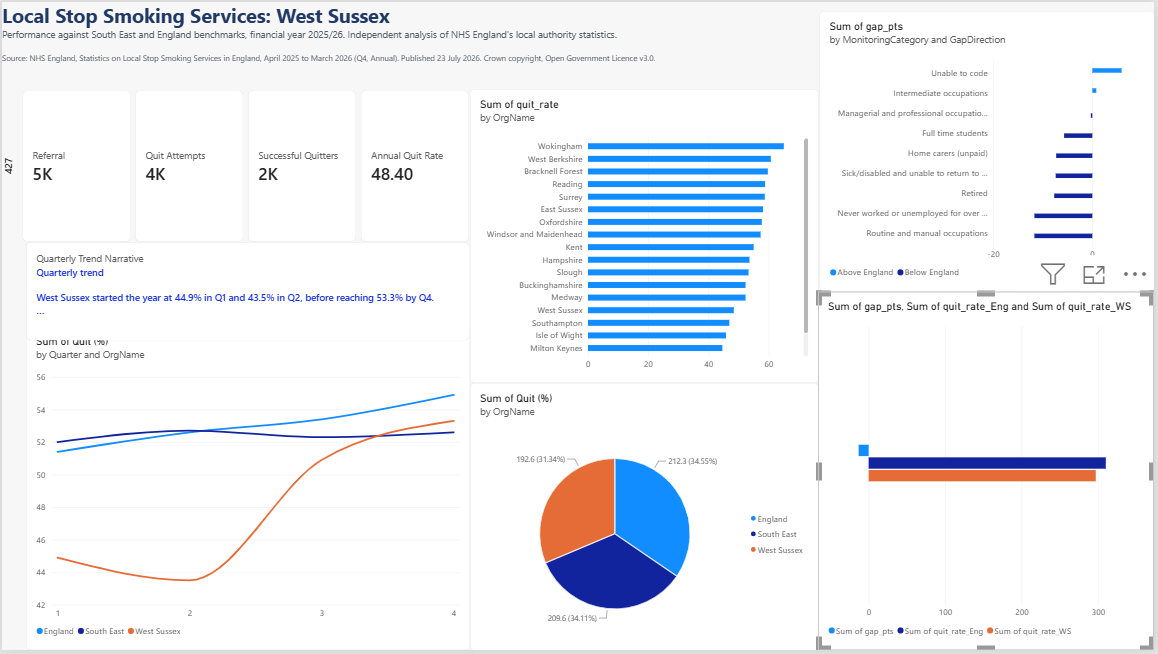

Layout of this report page (visuals, bound fields, positions):
{"tool":"powerbi","page":{"name":"Page 1","canvas":[1920,1080],"ordinal":0},"visuals":[{"type":"cardVisual","fields":{"Data":["Sum(west_sussex_vs_england_quarterly.Total referred)","Sum(local_authority_quit_rates.quit_dates)","Sum(local_authority_quit_rates.quits)","Sum(local_authority_quit_rates.quit_rate)"],"Rows":["cost_per_quitter.cost_per_quitter"]},"box":[0,147.9,780.2,252.9],"z":0},{"type":"lineChart","fields":{"Category":["west_sussex_vs_england_quarterly.Quarter"],"Series":["west_sussex_vs_england_quarterly.OrgName"],"Y":["Sum(west_sussex_vs_england_quarterly.Quit (%))"]},"box":[40,540,740,540],"z":1000},{"type":"barChart","fields":{"Category":["local_authority_quit_rates.OrgName"],"Y":["Sum(local_authority_quit_rates.quit_rate)"]},"box":[780,145.7,581.4,490],"z":2000},{"type":"textbox","box":[0,0,1296.7,146.7],"z":3000},{"type":"cardVisual","fields":{"Data":["cost_per_quitter.Quarterly Trend Narrative"]},"box":[40.6,400.8,739.6,164.6],"z":4000},{"type":"pieChart","fields":{"Category":["west_sussex_vs_england_quarterly.OrgName"],"Y":["Sum(west_sussex_vs_england_quarterly.Quit (%))"]},"box":[780,634.3,581.4,445.7],"z":5000},{"type":"clusteredBarChart","fields":{"Category":["socioeconomic_quit_rate_gap.MonitoringCategory"],"Series":["socioeconomic_quit_rate_gap.GapDirection"],"Y":["Sum(socioeconomic_quit_rate_gap.gap_pts)"]},"box":[1361.4,15.7,558.6,467.1],"z":5001},{"type":"clusteredBarChart","fields":{"Y":["Sum(intervention_type_quit_rate_gap.gap_pts)","Sum(intervention_type_quit_rate_gap.quit_rate_Eng)","Sum(intervention_type_quit_rate_gap.quit_rate_WS)"]},"box":[1360,483.3,560,596.7],"z":5002}]}

Visuals, with their boxes in screenshot pixels (x1, y1, x2, y2), scaled from the page's 1920x1080 canvas onto the 1158x654 screenshot:
cardVisual - Sum(west_sussex_vs_england_quarterly.Total referred) x Sum(local_authority_quit_rates.quit_dates): (0, 90, 471, 243)
lineChart - west_sussex_vs_england_quarterly.Quarter x west_sussex_vs_england_quarterly.OrgName: (24, 327, 470, 653)
barChart - local_authority_quit_rates.OrgName x Sum(local_authority_quit_rates.quit_rate): (470, 88, 821, 385)
textbox: (0, 0, 782, 89)
cardVisual - cost_per_quitter.Quarterly Trend Narrative: (24, 243, 471, 342)
pieChart - west_sussex_vs_england_quarterly.OrgName x Sum(west_sussex_vs_england_quarterly.Quit (%)): (470, 384, 821, 653)
clusteredBarChart - socioeconomic_quit_rate_gap.MonitoringCategory x socioeconomic_quit_rate_gap.GapDirection: (821, 10, 1157, 292)
clusteredBarChart - Sum(intervention_type_quit_rate_gap.gap_pts) x Sum(intervention_type_quit_rate_gap.quit_rate_Eng): (820, 293, 1157, 653)
